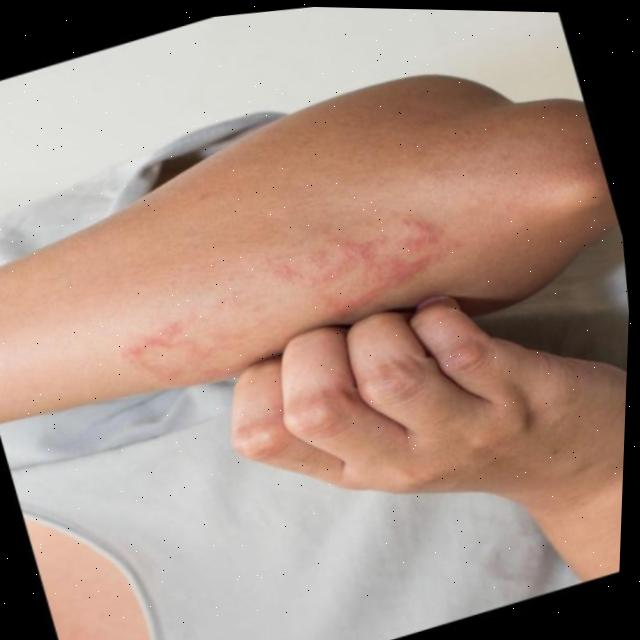Eczema: (107, 196, 455, 392)
